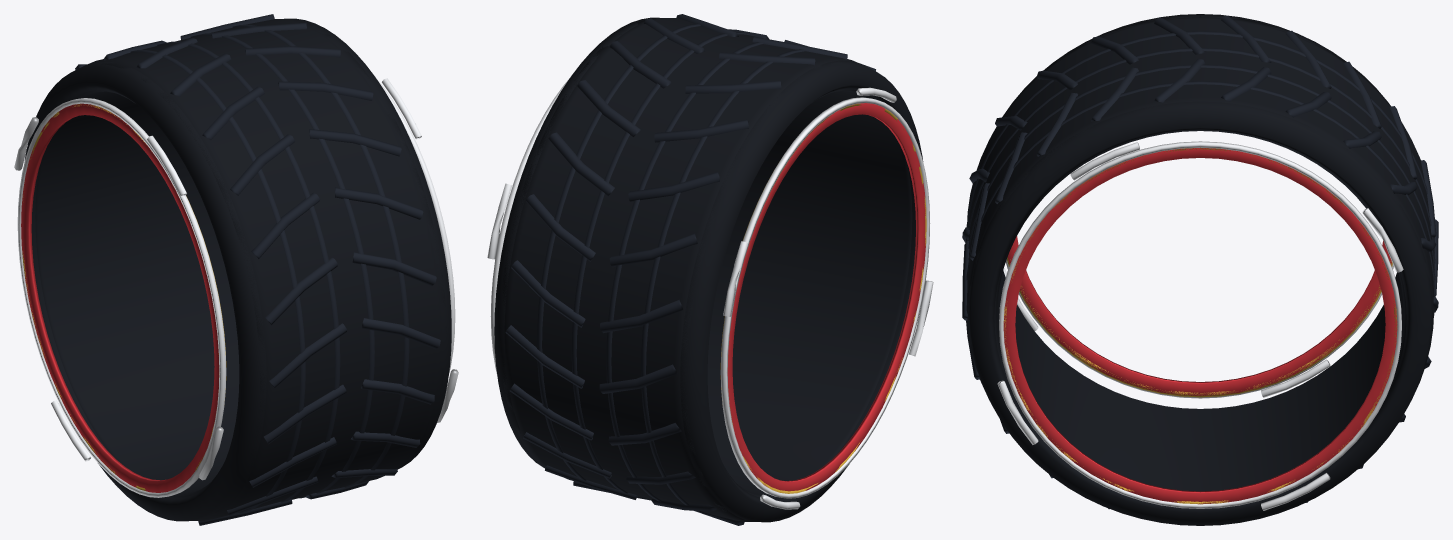
The model's file is parts_tires.glb.
3 views of the same model, side by side, from view 1: azimuth 30°, elevation 25°; view 2: azimuth 150°, elevation 25°; view 3: azimuth 270°, elevation 25° (orthographic).
Parts seen in each view (by area): view 1: SoftShell, RainShell, SlickShell, SoftRing_-1, SlickLine_-1, SoftGroove_2, SoftGroove_1, SoftGroove_0, SoftGroove_3, SlickLine_1, RainTread.009, RainTread.007 (+20 smaller); view 2: SoftShell, RainShell, SlickShell, SoftRing_-1, SlickLine_-1, SoftGroove_2, SoftGroove_0, SoftGroove_1, SoftGroove_3, SlickLine_1, RainTread.036, RainTread.038 (+22 smaller); view 3: SlickShell, SoftShell, RainShell, SoftRing_1, SlickLine_1, SoftRing_-1, SoftGroove_2, SoftGroove_1, SoftGroove_3, SoftGroove_0, RainMark, RainMark.001 (+6 smaller).
Part boxes in pixels (box(x1,y1,x2,y2)): SoftShell: box(79, 18, 446, 520); RainShell: box(35, 90, 239, 497); SlickShell: box(24, 18, 451, 521); SoftRing_-1: box(21, 103, 219, 492); SlickLine_-1: box(17, 98, 226, 497); SoftGroove_2: box(191, 33, 374, 498); SoftGroove_1: box(157, 41, 340, 502); SoftGroove_0: box(130, 50, 305, 513); SoftGroove_3: box(233, 24, 409, 487); SlickLine_1: box(377, 79, 455, 375); RainTread.009: box(352, 252, 436, 286); RainTread.007: box(335, 187, 423, 219); SoftShell: box(501, 17, 869, 521); RainShell: box(707, 89, 912, 498); SlickShell: box(494, 17, 923, 522); SoftRing_-1: box(727, 103, 925, 491); SlickLine_-1: box(720, 97, 930, 498); SoftGroove_2: box(571, 32, 758, 498); SoftGroove_0: box(641, 49, 806, 515); SoftGroove_1: box(606, 42, 763, 501); SoftGroove_3: box(537, 23, 700, 480); SlickLine_1: box(490, 78, 569, 374); RainTread.036: box(609, 233, 697, 267); RainTread.038: box(628, 172, 719, 201); SlickShell: box(968, 14, 1432, 525); SoftShell: box(966, 16, 1434, 396); RainShell: box(994, 131, 1406, 491); SoftRing_1: box(1003, 148, 1397, 504); SlickLine_1: box(999, 141, 1401, 508); SoftRing_-1: box(1007, 236, 1391, 395); SoftGroove_2: box(968, 64, 1435, 285); SoftGroove_1: box(966, 48, 1435, 268); SoftGroove_3: box(966, 81, 1435, 315); SoftGroove_0: box(966, 31, 1434, 251); RainMark: box(1007, 257, 1392, 397); RainMark.001: box(1003, 147, 1397, 504).
Size of the model in its own units: 0.42 by 0.7236 by 0.7255.
